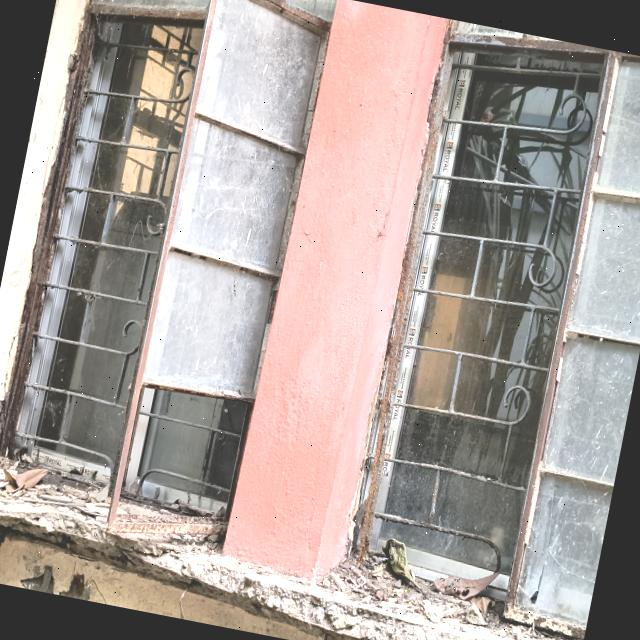spalling: (0, 497, 484, 640)
stain_mould: (349, 30, 605, 560), (0, 1, 210, 463)
